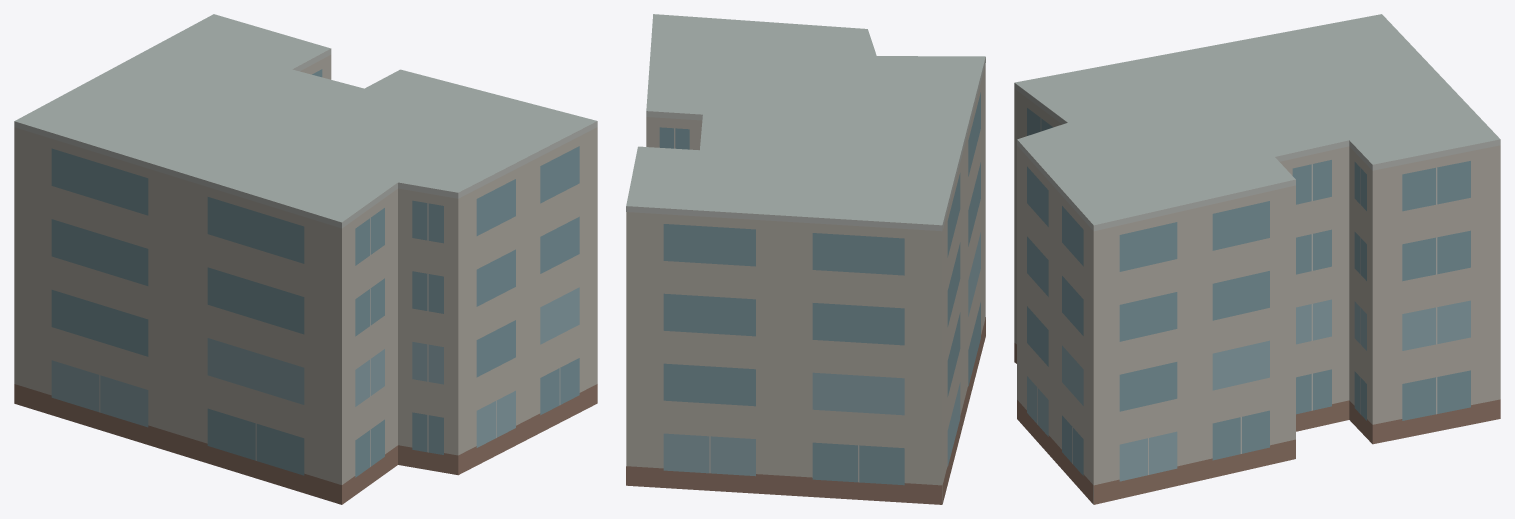
The model's file is survey-upis-32464417.glb.
3 renders of one model, left to right at view 1: azimuth 30°, elevation 25°; view 2: azimuth 150°, elevation 25°; view 3: azimuth 270°, elevation 25°, orthographic.
Parts seen in each view (by area): view 1: survey-upis-32464417.tmp; view 2: survey-upis-32464417.tmp; view 3: survey-upis-32464417.tmp.
Boxes of the visible parts, box(x1,y1,x2,y2) form: survey-upis-32464417.tmp: box(14, 14, 597, 504); survey-upis-32464417.tmp: box(626, 14, 985, 504); survey-upis-32464417.tmp: box(1014, 14, 1500, 504).
Size of the model in its own units: 18.67 by 11.5 by 18.15.
